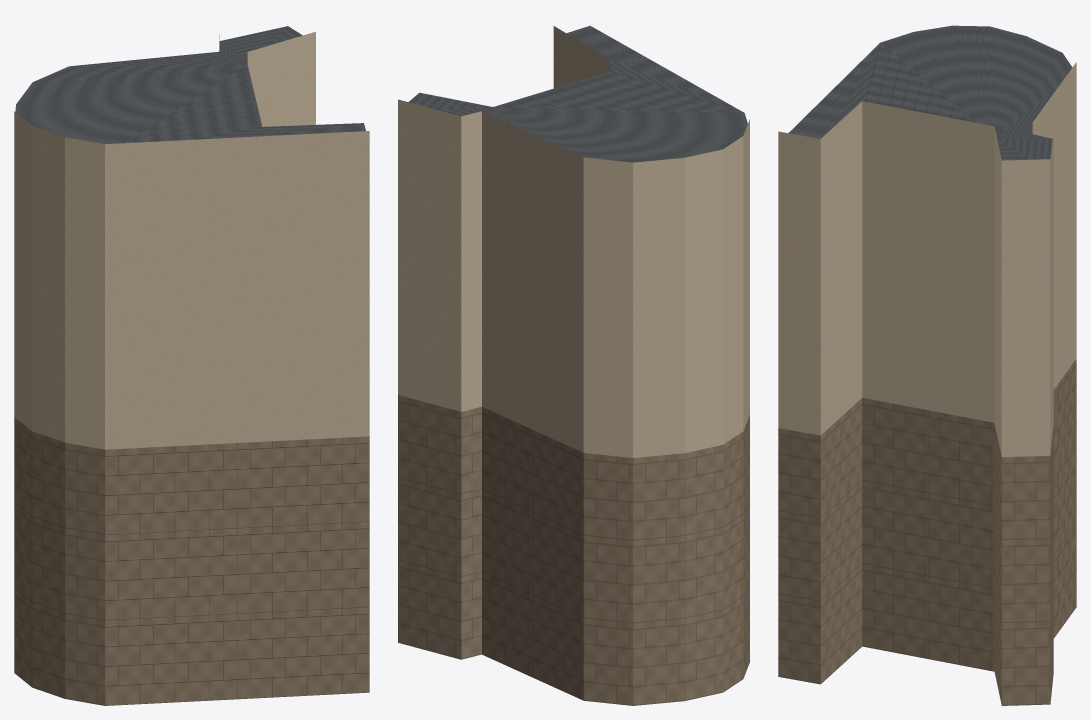
The model's file is bld_c-13_27_477.gltf.
3 views of the same model, side by side, from view 1: azimuth 30°, elevation 25°; view 2: azimuth 150°, elevation 25°; view 3: azimuth 270°, elevation 25° (orthographic). The views are drawn at different scales.
Parts seen in each view (by area): view 1: bld_c-13_27_477; view 2: bld_c-13_27_477; view 3: bld_c-13_27_477.
Part boxes in pixels (<box>): bld_c-13_27_477: <box>14,26,369,705</box>; bld_c-13_27_477: <box>398,25,749,705</box>; bld_c-13_27_477: <box>778,25,1076,705</box>.
Bounding box in the file's own units: 6.44 × 11.18 × 5.54.
4 materials, 4 textured.
